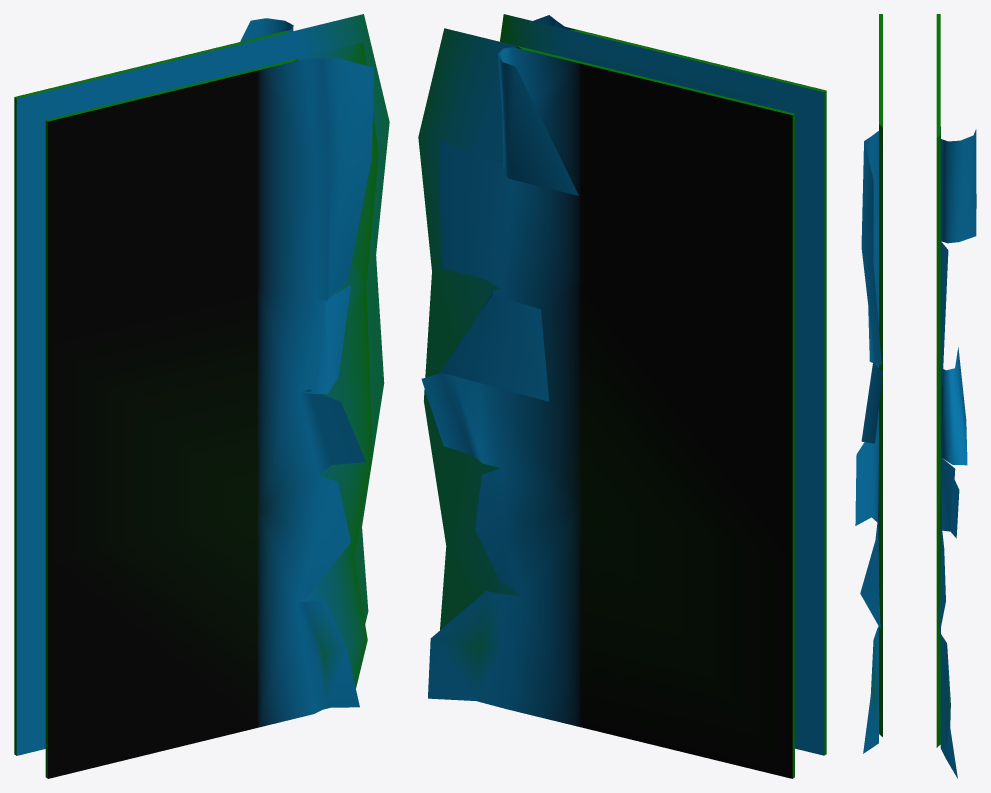
The model's file is DBK_Drywall_Side_B.fbx.
3 views of the same model, side by side, from view 1: azimuth 30°, elevation 25°; view 2: azimuth 150°, elevation 25°; view 3: azimuth 270°, elevation 25° (orthographic). The views are drawn at different scales.
Parts seen in each view (by area): view 1: DBK_Drywall_Side_B; view 2: DBK_Drywall_Side_B; view 3: DBK_Drywall_Side_B.
Boxes of the visible parts, x1,y1,x2,y2 form: DBK_Drywall_Side_B: [14, 14, 389, 778]; DBK_Drywall_Side_B: [418, 14, 826, 778]; DBK_Drywall_Side_B: [855, 14, 976, 778].
Size of what is drawn, in the model's own units: 178 by 300 by 54.26.
